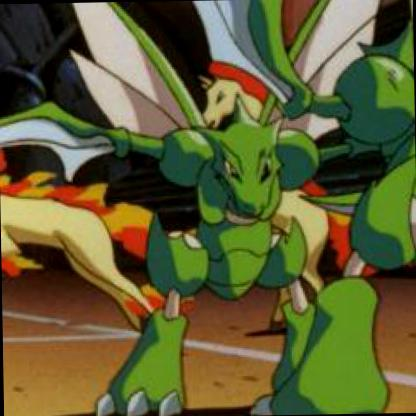Sichlor: (97, 0, 415, 407)
